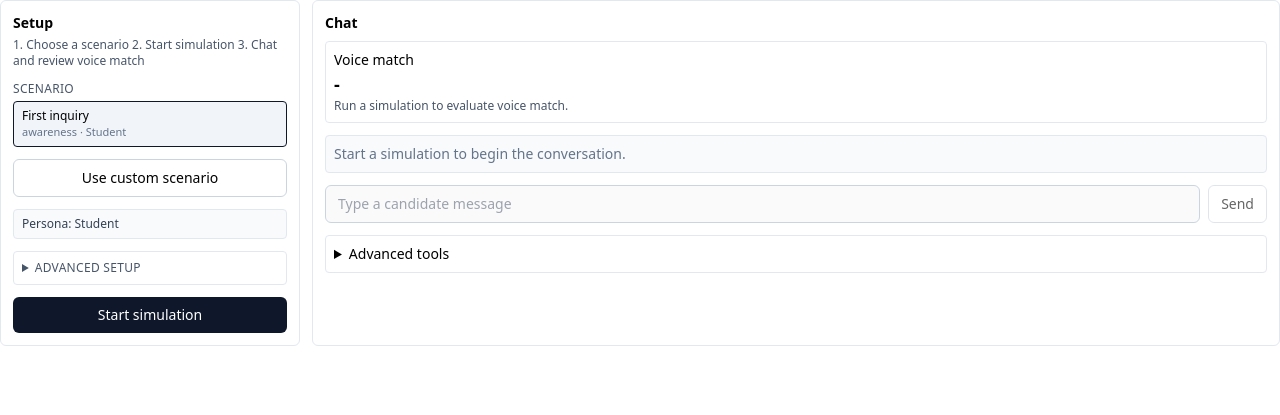
SimulationLab › renders Simulation Lab and starts a simulation with first assistant response
Expected: the heading "Chat" is shown, x1=325 y1=13 x2=358 y2=32
Click the button "Start simulation".
click(150, 315)  # box x1=13 y1=297 x2=287 y2=333
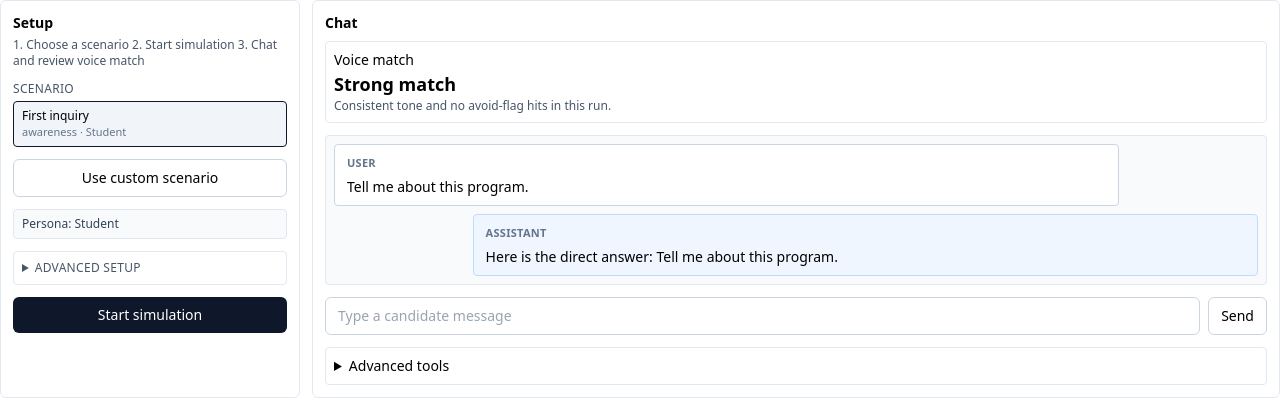
Result: the text "Here is the direct answer: Tell me about this program." is shown at x1=486 y1=247 x2=838 y2=266
